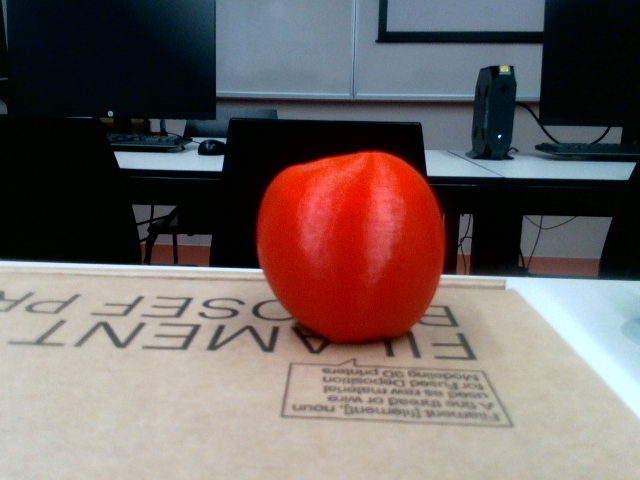red apple: (243, 140, 459, 356)
